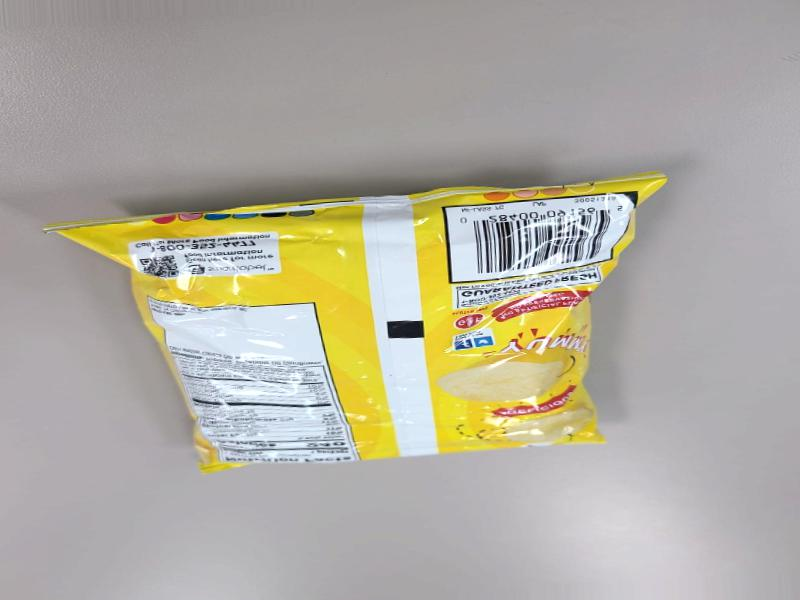lays: (62, 241, 746, 477)
